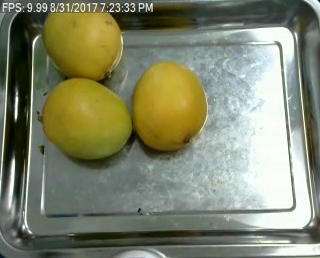Mango: (41, 77, 134, 157), (129, 61, 210, 150), (40, 0, 123, 81)
